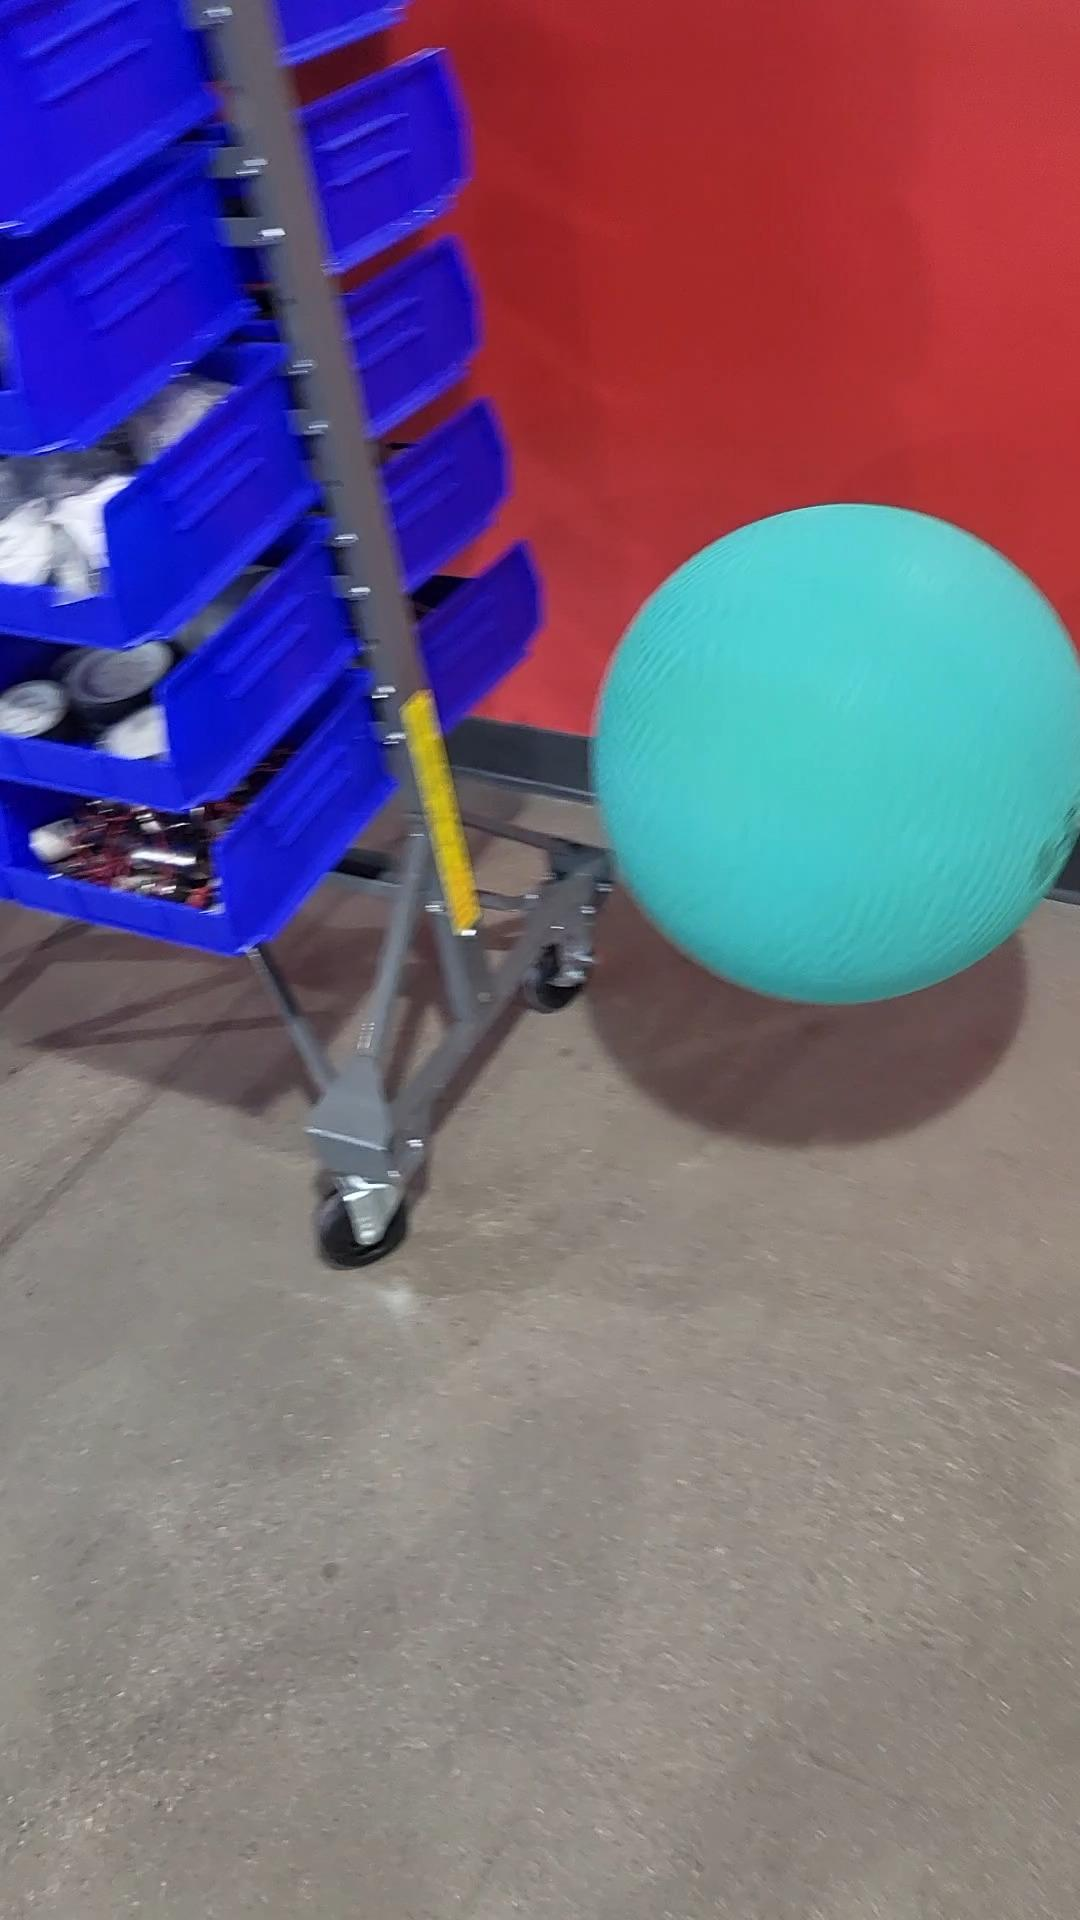algae: (601, 496, 1080, 1001)
